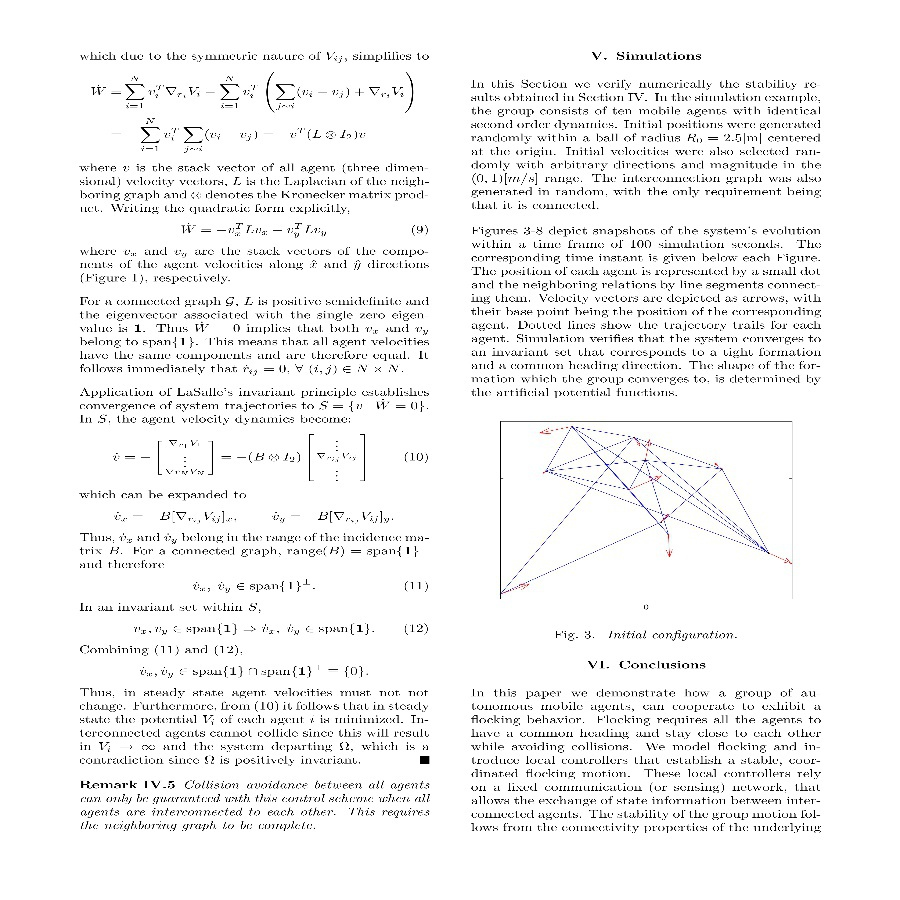eq: (87, 69, 420, 156), (110, 432, 375, 487), (137, 661, 363, 681), (133, 619, 370, 637), (180, 219, 333, 241), (269, 507, 391, 528), (108, 508, 235, 528), (187, 577, 309, 597)
